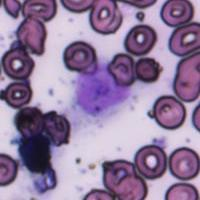M: (70, 59, 134, 123)
